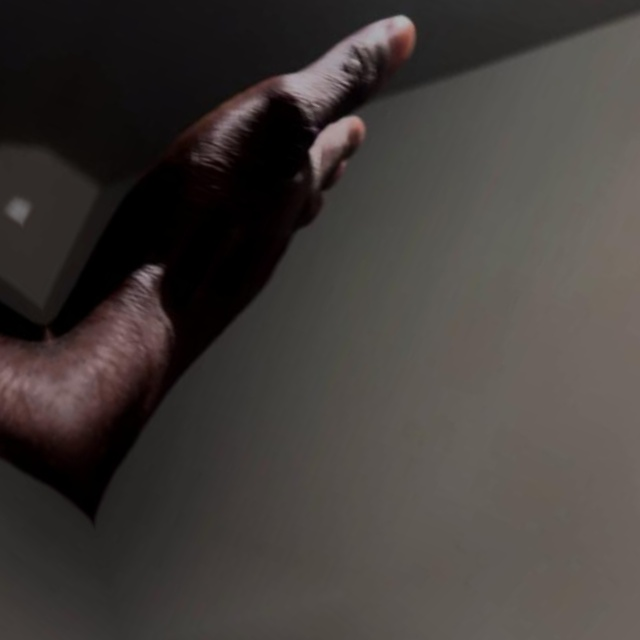Paper: (0, 0, 504, 452)
